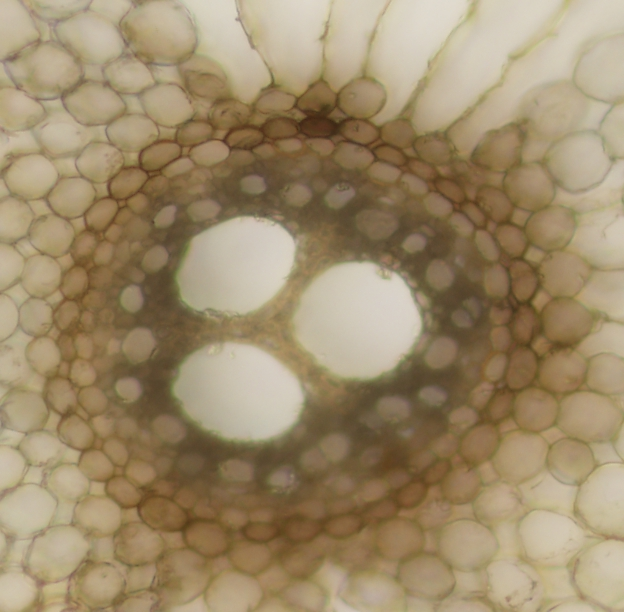lm: (291, 261, 422, 382), (171, 339, 305, 443), (173, 215, 295, 315)
